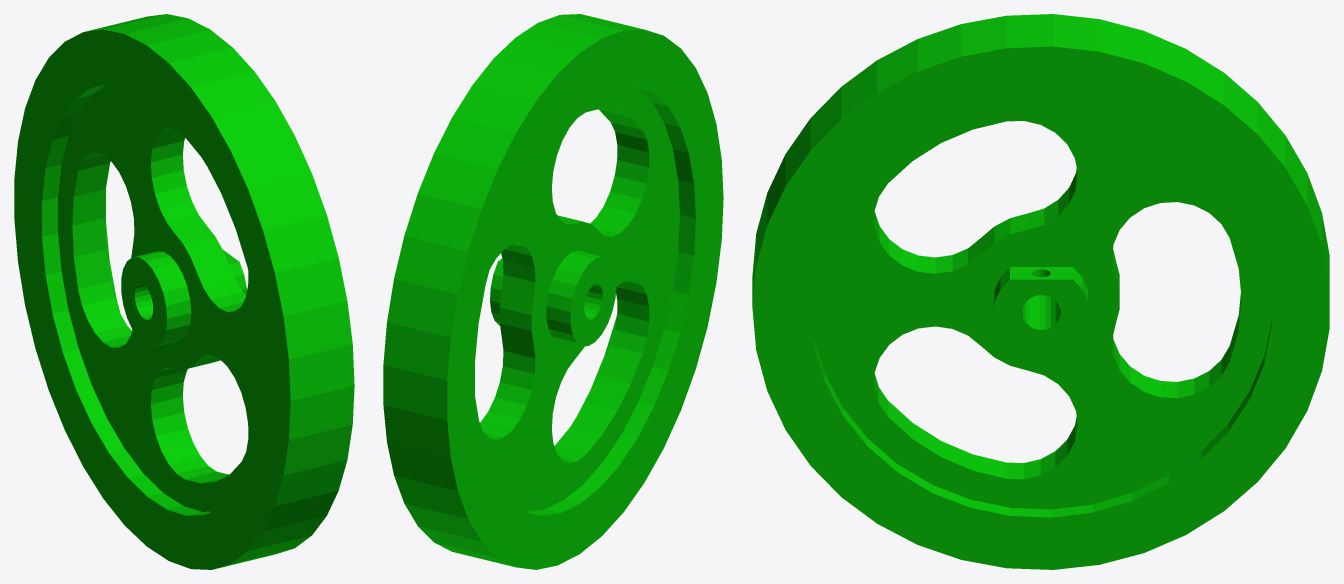
The model's file is engine_flywheel.glb.
3 renders of one model, left to right at view 1: azimuth 30°, elevation 25°; view 2: azimuth 150°, elevation 25°; view 3: azimuth 270°, elevation 25°, orthographic. The views are drawn at different scales.
Visible parts, largest first — view 1: Node1; view 2: Node1; view 3: Node1.
Boxes of the visible parts, x1,y1,x2,y2 form: Node1: (14,14,354,569); Node1: (383,14,723,569); Node1: (752,14,1329,569).
Size of the model in its own units: 8 by 47.58 by 47.54.
